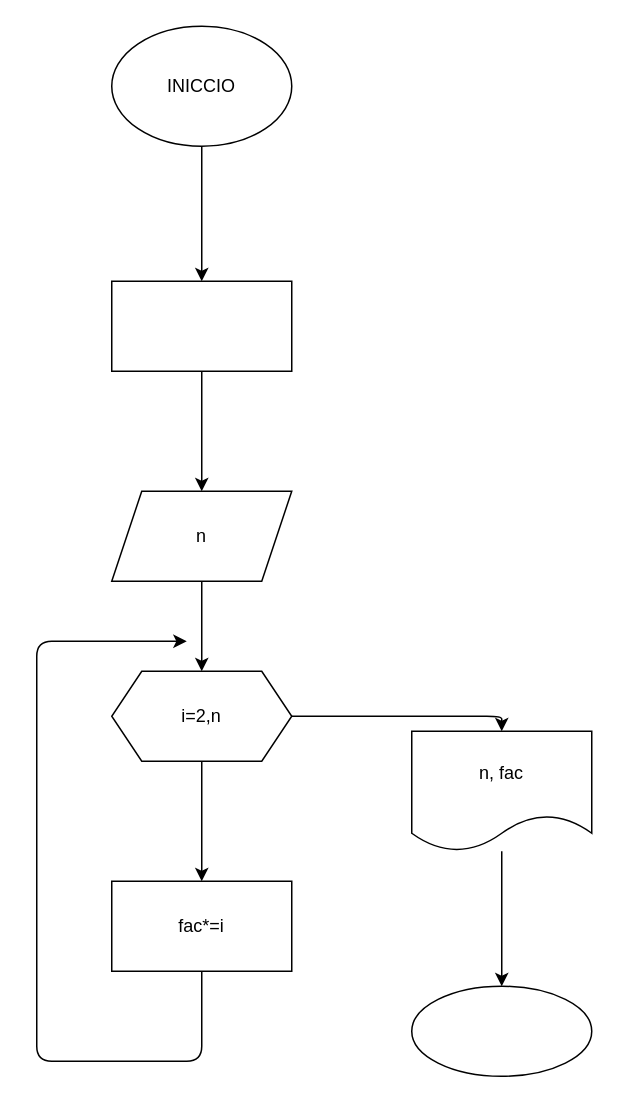
Some shapes in this 618 by 1103 pixel diagram are drawn without their labels. The box of each missing label's shape, as (x1, y1, x2, y2) in pixels:
fact=1: (110, 280, 292, 371)
fin: (410, 985, 592, 1076)
